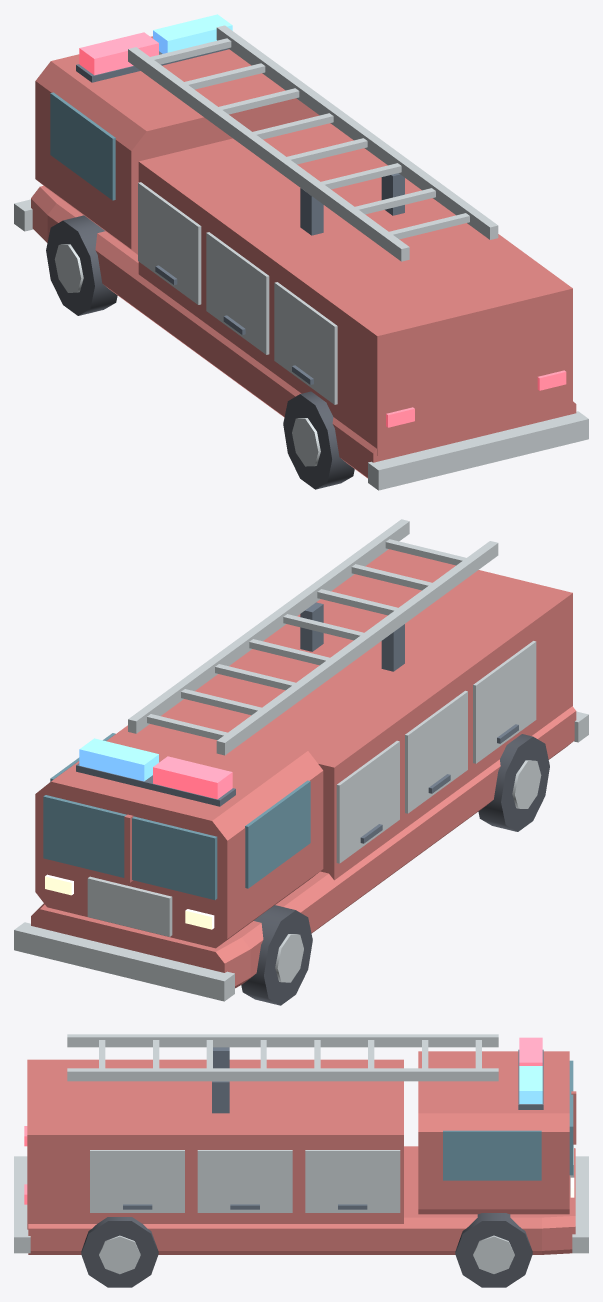
Rendered from firetruck.glb.
3 renders of one model, top to bottom at view 1: azimuth 30°, elevation 25°; view 2: azimuth 150°, elevation 25°; view 3: azimuth 270°, elevation 25°, orthographic. The views are drawn at different scales.
Visible parts, largest first — view 1: Equipment_Body, Crew_Cab, Long_Chassis, Ladder_Rail (×2), Tire (×2), Rear_Chrome_Bumper, Equipment_Shutter_0, Equipment_Shutter_1, Equipment_Shutter_2, Cab_Side_Window, Hub (×2), Emergency_Red_Box (+11 smaller); view 2: Equipment_Body, Crew_Cab, Long_Chassis, Ladder_Rail (×2), Windshield, Tire (×2), Front_Chrome_Bumper, Equipment_Shutter_0, Equipment_Shutter_2, Equipment_Shutter_1, Cab_Side_Window, Front_Grille (+13 smaller); view 3: Equipment_Body, Crew_Cab, Long_Chassis, Ladder_Rail (×2), Tire (×2), Equipment_Shutter_0, Equipment_Shutter_1, Equipment_Shutter_2, Cab_Side_Window, Hub (×2), Front_Chrome_Bumper, Rear_Chrome_Bumper (+5 smaller).
Boxes of the visible parts, <box> form: Equipment_Body: <box>138,123,572,455</box>; Crew_Cab: <box>35,36,319,254</box>; Long_Chassis: <box>31,186,576,478</box>; Ladder_Rail (×2): <box>128,25,498,261</box>; Tire (×2): <box>46,215,354,489</box>; Rear_Chrome_Bumper: <box>368,411,588,490</box>; Equipment_Shutter_0: <box>138,182,201,304</box>; Equipment_Shutter_1: <box>206,232,269,354</box>; Equipment_Shutter_2: <box>274,282,337,404</box>; Cab_Side_Window: <box>50,92,115,200</box>; Hub (×2): <box>54,244,320,466</box>; Emergency_Red_Box: <box>79,32,158,75</box>; Equipment_Body: <box>162,549,572,880</box>; Crew_Cab: <box>35,715,323,948</box>; Long_Chassis: <box>31,706,576,988</box>; Ladder_Rail (×2): <box>128,519,498,755</box>; Windshield: <box>43,795,217,899</box>; Tire (×2): <box>241,734,549,1005</box>; Front_Chrome_Bumper: <box>14,922,234,1001</box>; Equipment_Shutter_0: <box>336,740,399,863</box>; Equipment_Shutter_2: <box>473,641,536,763</box>; Equipment_Shutter_1: <box>405,690,467,813</box>; Cab_Side_Window: <box>245,780,310,888</box>; Front_Grille: <box>87,876,172,936</box>; Equipment_Body: <box>27,1059,403,1229</box>; Crew_Cab: <box>418,1051,569,1214</box>; Long_Chassis: <box>28,1146,575,1254</box>; Ladder_Rail (×2): <box>67,1034,498,1081</box>; Tire (×2): <box>81,1213,532,1287</box>; Equipment_Shutter_0: <box>305,1150,400,1212</box>; Equipment_Shutter_1: <box>197,1150,292,1212</box>; Equipment_Shutter_2: <box>90,1150,184,1212</box>; Cab_Side_Window: <box>443,1130,541,1180</box>; Hub (×2): <box>99,1235,514,1274</box>; Front_Chrome_Bumper: <box>572,1156,588,1253</box>; Rear_Chrome_Bumper: <box>14,1156,30,1253</box>.
Size of the model in its own units: 2.42 by 2.53 by 6.84.
